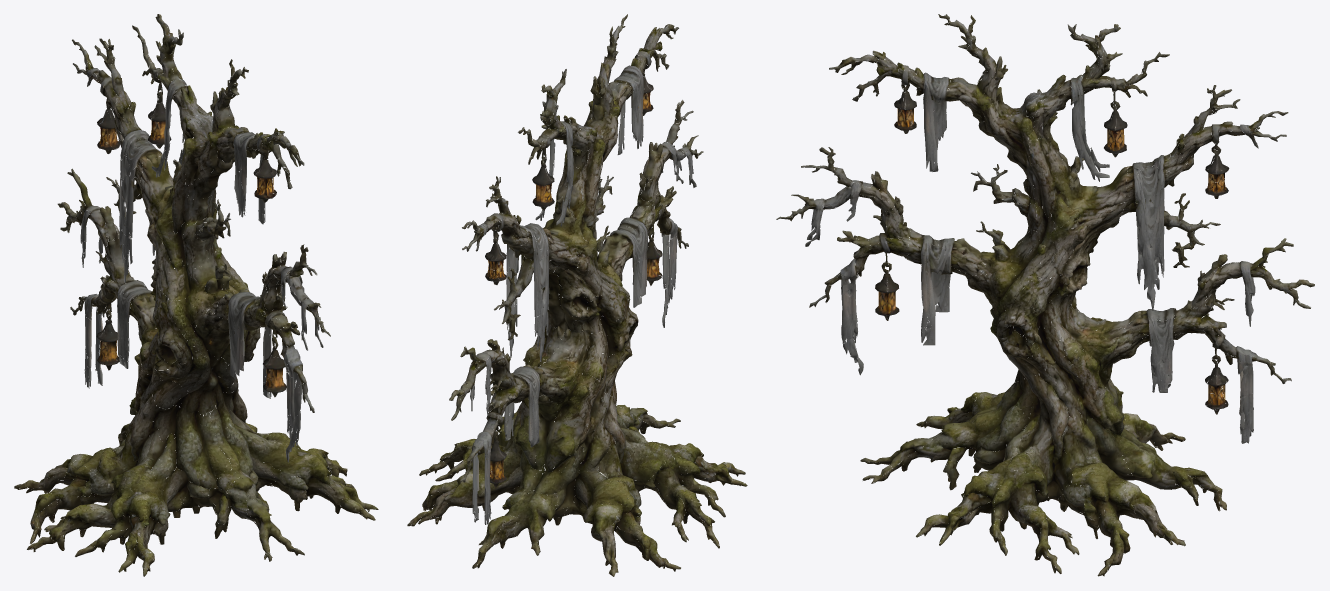
The model's file is hanging-tree-tripo.glb.
3 views of the same model, side by side, from view 1: azimuth 30°, elevation 25°; view 2: azimuth 150°, elevation 25°; view 3: azimuth 270°, elevation 25° (orthographic). The views are drawn at different scales.
Visible parts, largest first — view 1: tripo_node_02428f3d-18e6-40c5-bc74-ab01772b4817; view 2: tripo_node_02428f3d-18e6-40c5-bc74-ab01772b4817; view 3: tripo_node_02428f3d-18e6-40c5-bc74-ab01772b4817.
Boxes of the visible parts, box(x1,y1,x2,y2) form: tripo_node_02428f3d-18e6-40c5-bc74-ab01772b4817: box(14, 14, 378, 576); tripo_node_02428f3d-18e6-40c5-bc74-ab01772b4817: box(407, 14, 747, 576); tripo_node_02428f3d-18e6-40c5-bc74-ab01772b4817: box(776, 14, 1314, 576).
Bounding box in the file's own units: 0.6689 × 1 × 0.9813.
1 material, 1 textured.
